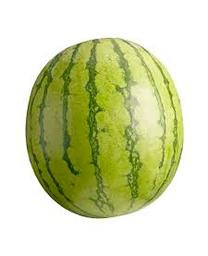watermelon: (23, 38, 185, 222)
